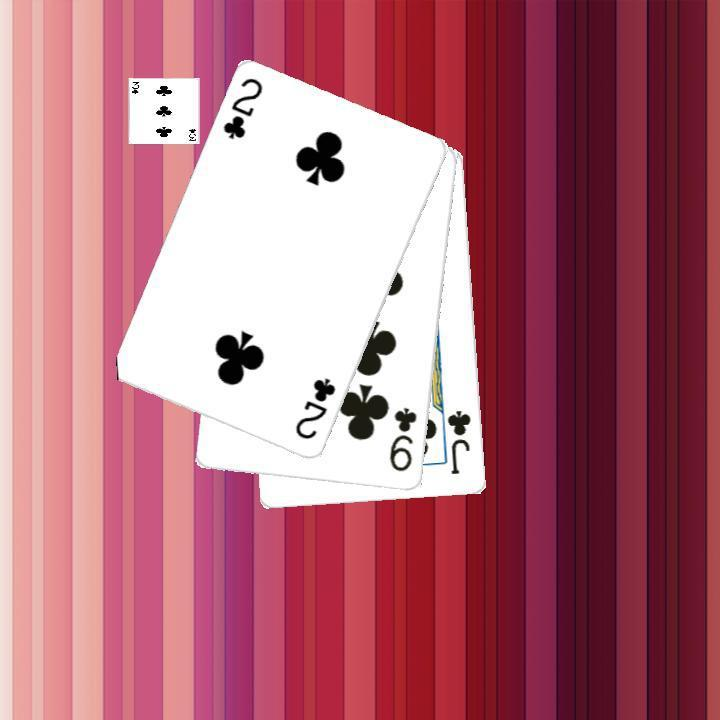2: (291, 374, 338, 442), (219, 74, 265, 142)
9: (385, 403, 420, 474)
J: (443, 407, 474, 477)
